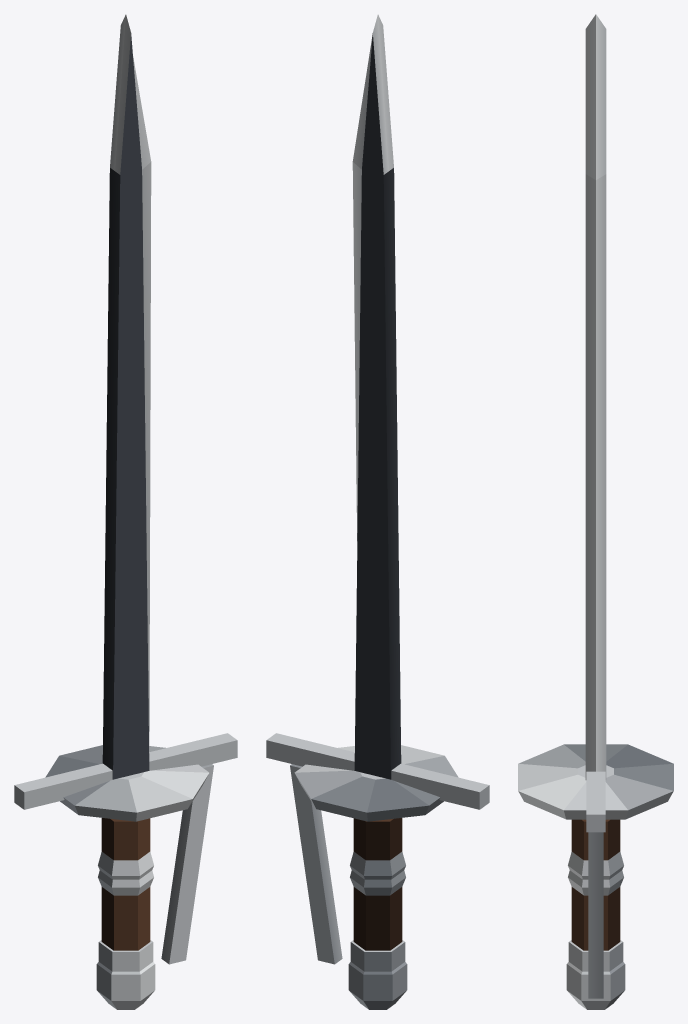
File: rogue_rapier_2.gltf
3 views of the same model, side by side, from view 1: azimuth 30°, elevation 25°; view 2: azimuth 150°, elevation 25°; view 3: azimuth 270°, elevation 25° (orthographic).
Parts seen in each view (by area): view 1: rogue_rapier_2; view 2: rogue_rapier_2; view 3: rogue_rapier_2.
Part boxes in pixels (x1,y1,x2,y2): rogue_rapier_2: [14, 14, 237, 1009]; rogue_rapier_2: [266, 14, 489, 1009]; rogue_rapier_2: [518, 14, 673, 1009].
Bounding box in the file's own units: 0.38 × 1.68 × 0.2402.
1 material, 1 textured.
